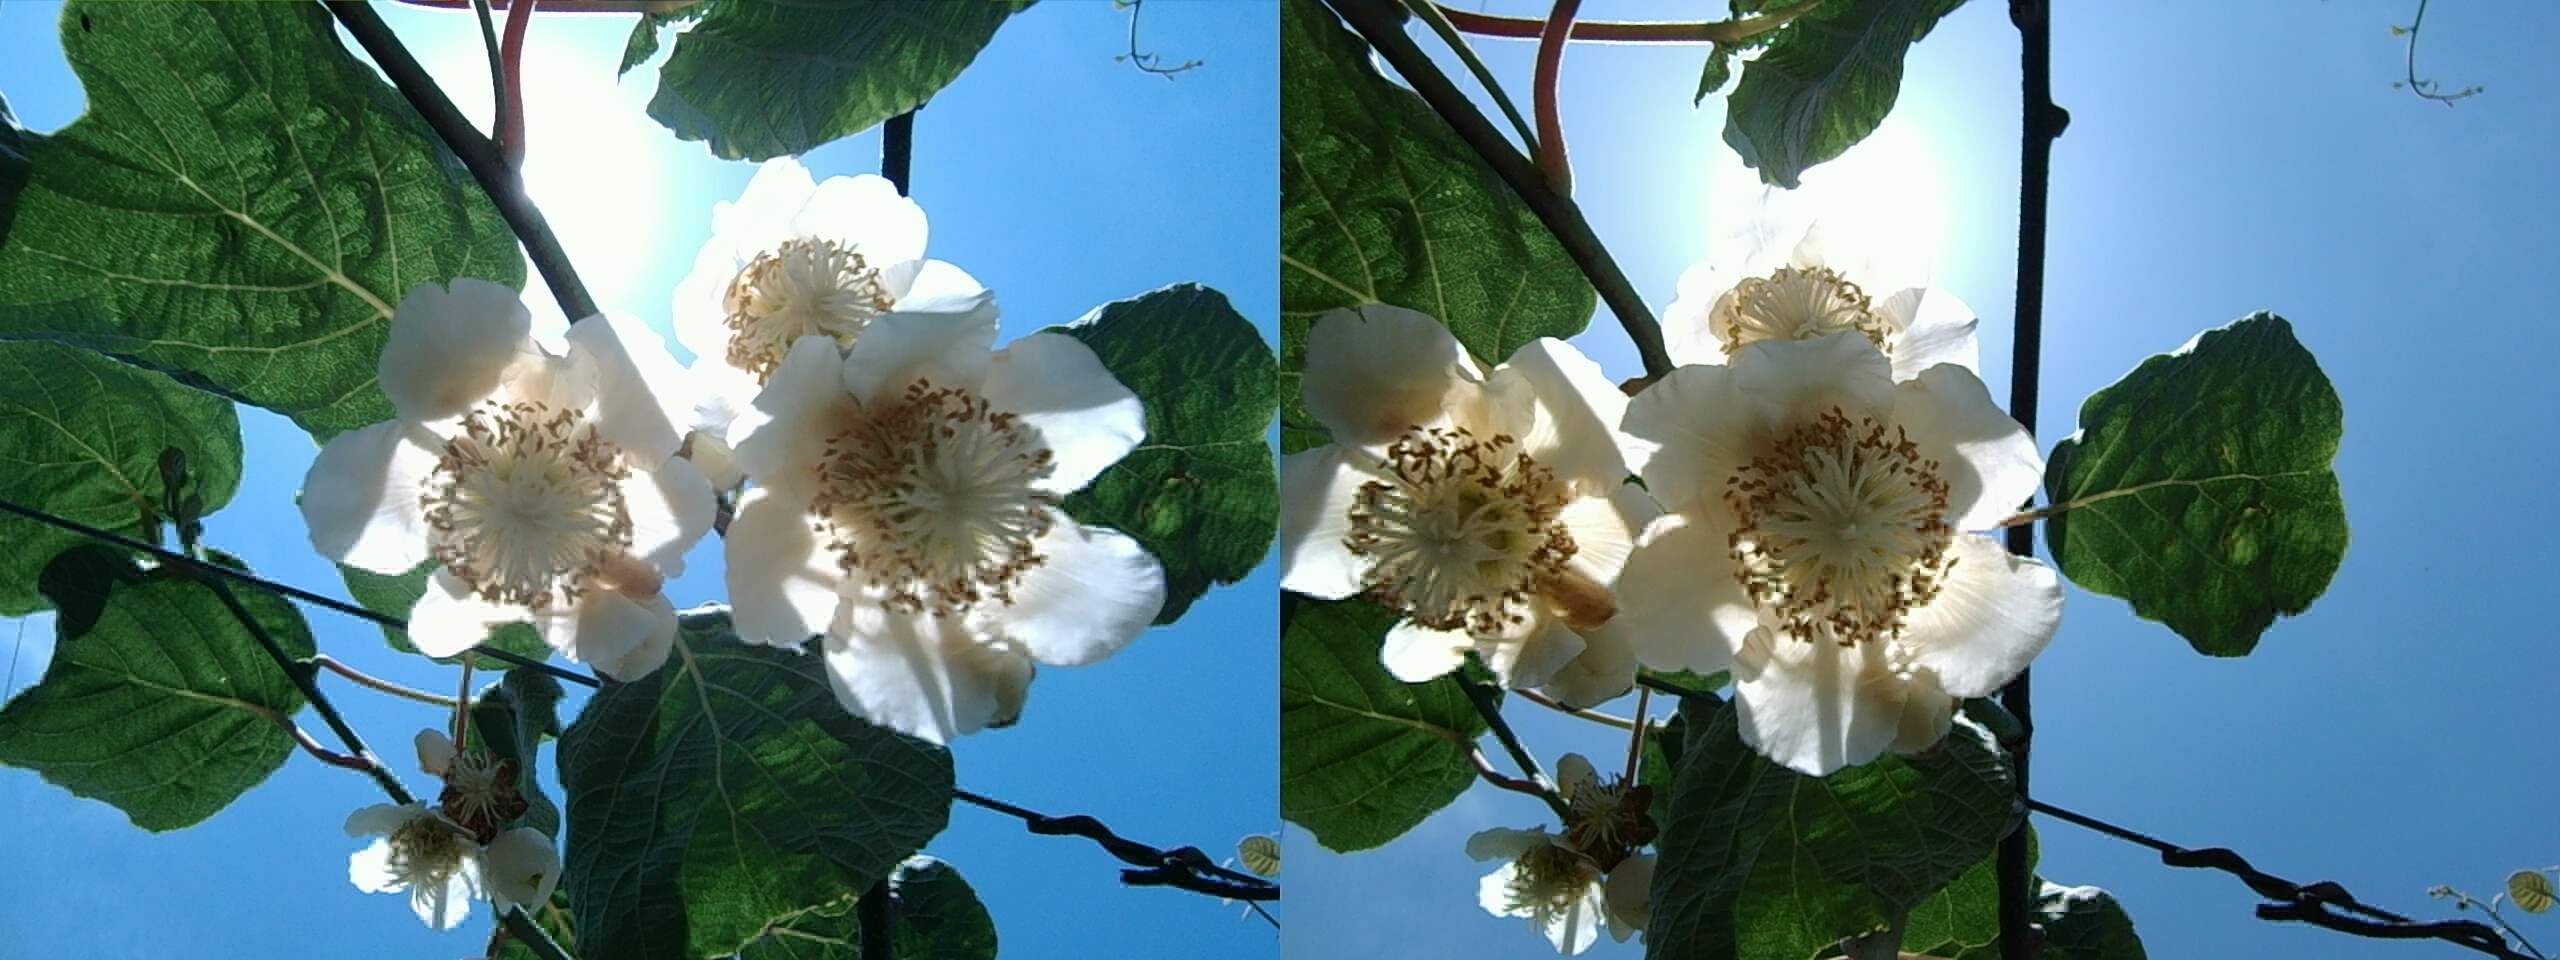flower: (723, 322, 1162, 699), (1662, 344, 2041, 686), (1287, 344, 1634, 681), (372, 309, 689, 676), (682, 153, 960, 397), (323, 700, 567, 936), (1667, 232, 1936, 390)
